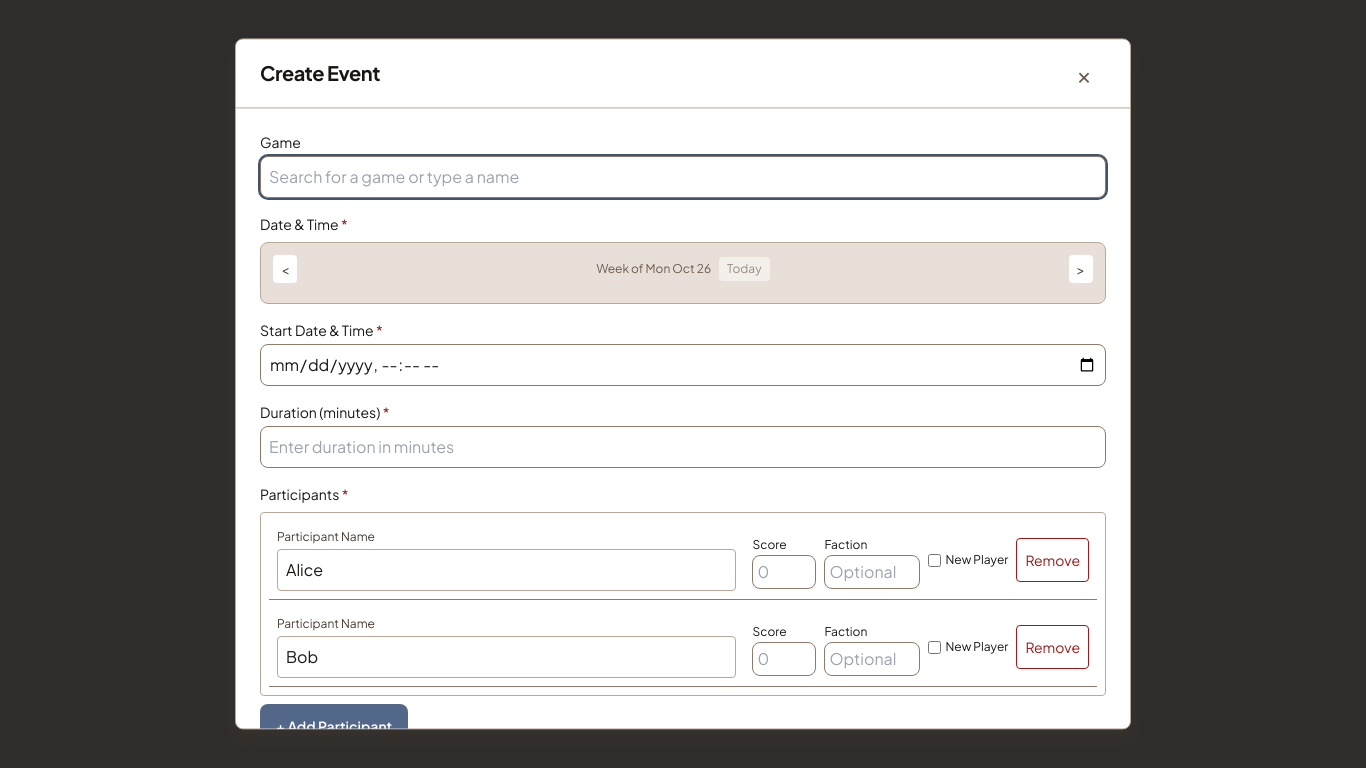
Scenario: stable row identity + undo (UAT rows 510, 557) › offers Undo, restores the row with its typed data, and puts focus on the control
Expected: the text "Alice" is shown, [277,549,736,591]
Click the button "+ Add Participant". click: {"x": 334, "y": 726}
box: [260,704,408,748]
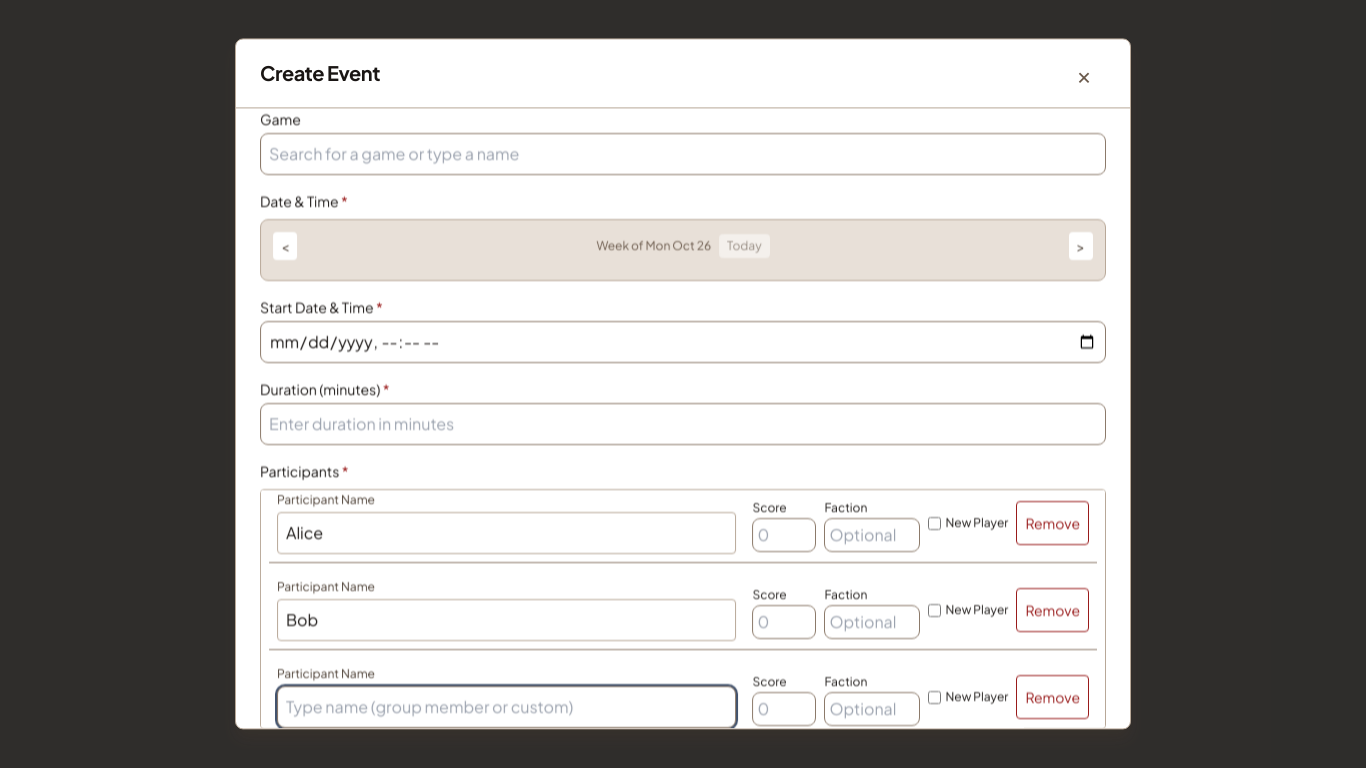
Type "Gina" into the field labelled "Participant Name". click: {"x": 507, "y": 707}
box: [277,686,736,728]
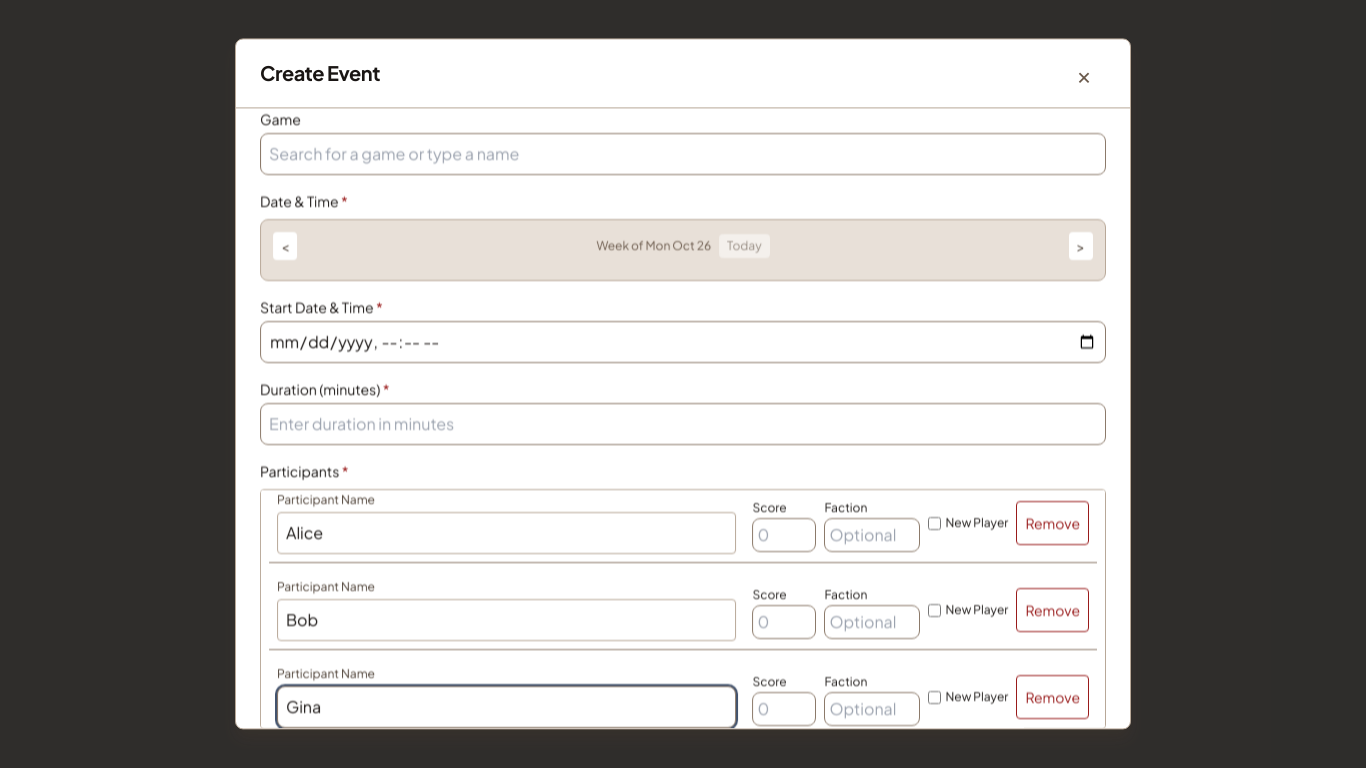
Type "11" into the 3rd number field labelled "Score". click: {"x": 784, "y": 709}
box: [752,692,816,726]
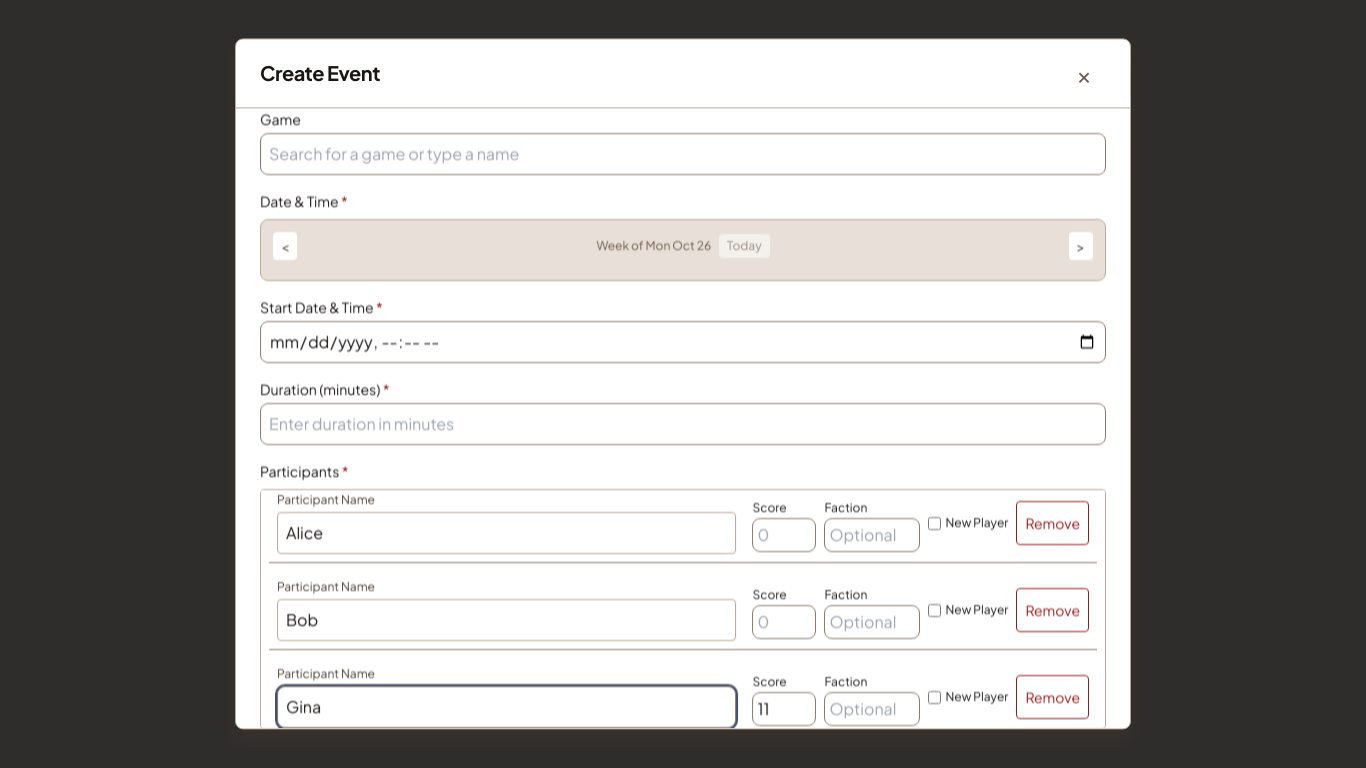
Type "Reds" into the 3rd field labelled "Faction". click: {"x": 872, "y": 709}
box: [824,692,920,726]
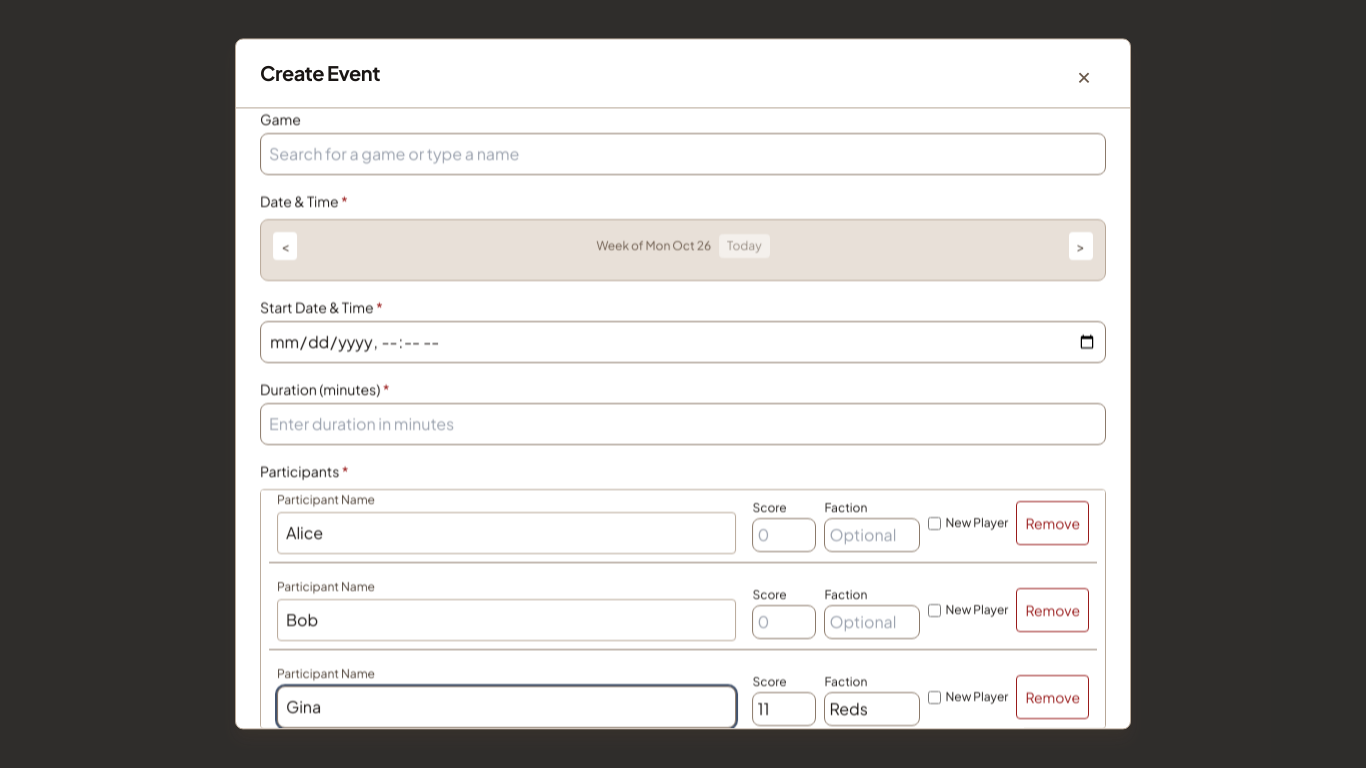
Click the 3rd button titled "Remove participant". click: {"x": 1053, "y": 697}
box: [1016,675,1089,719]
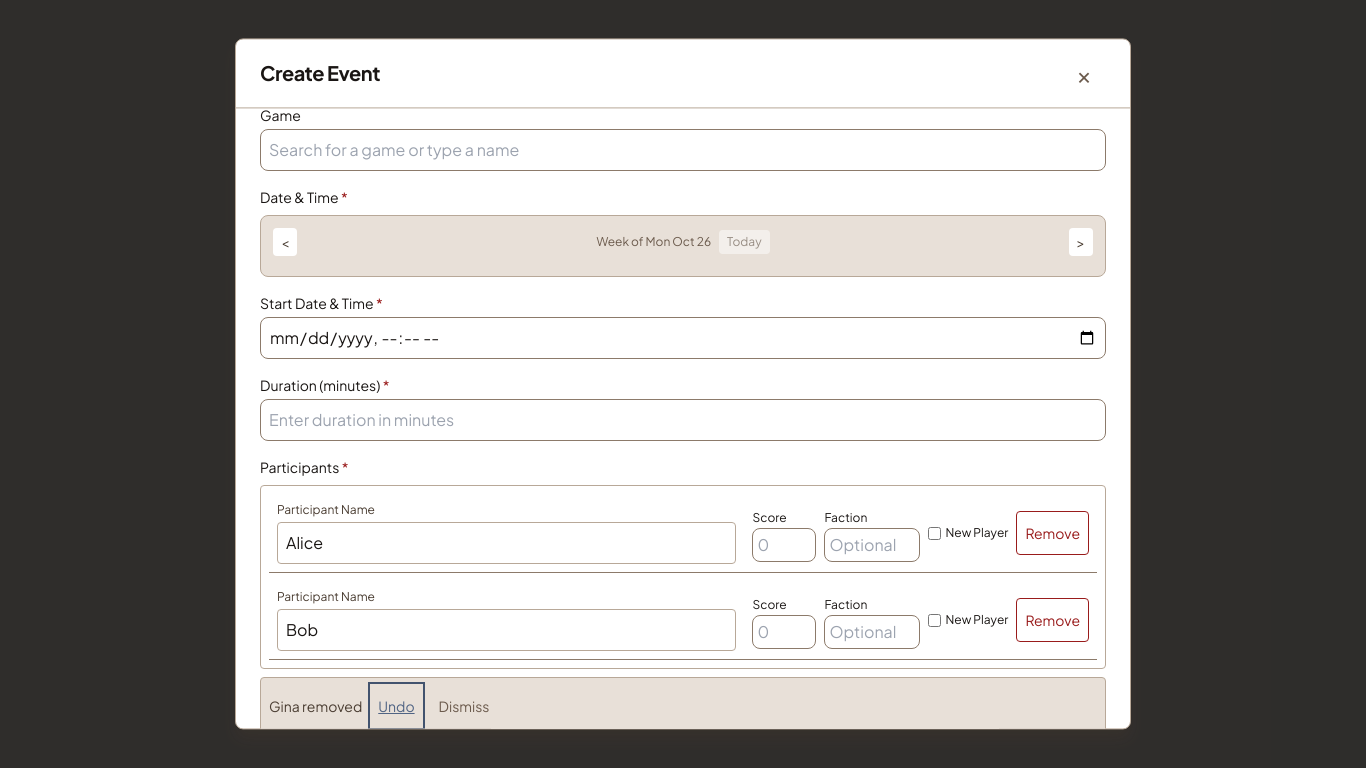
Result: the text "Gina removed" is shown at [269,696,362,716]
Click the button "Undo". click: {"x": 396, "y": 706}
box: [370,684,423,728]
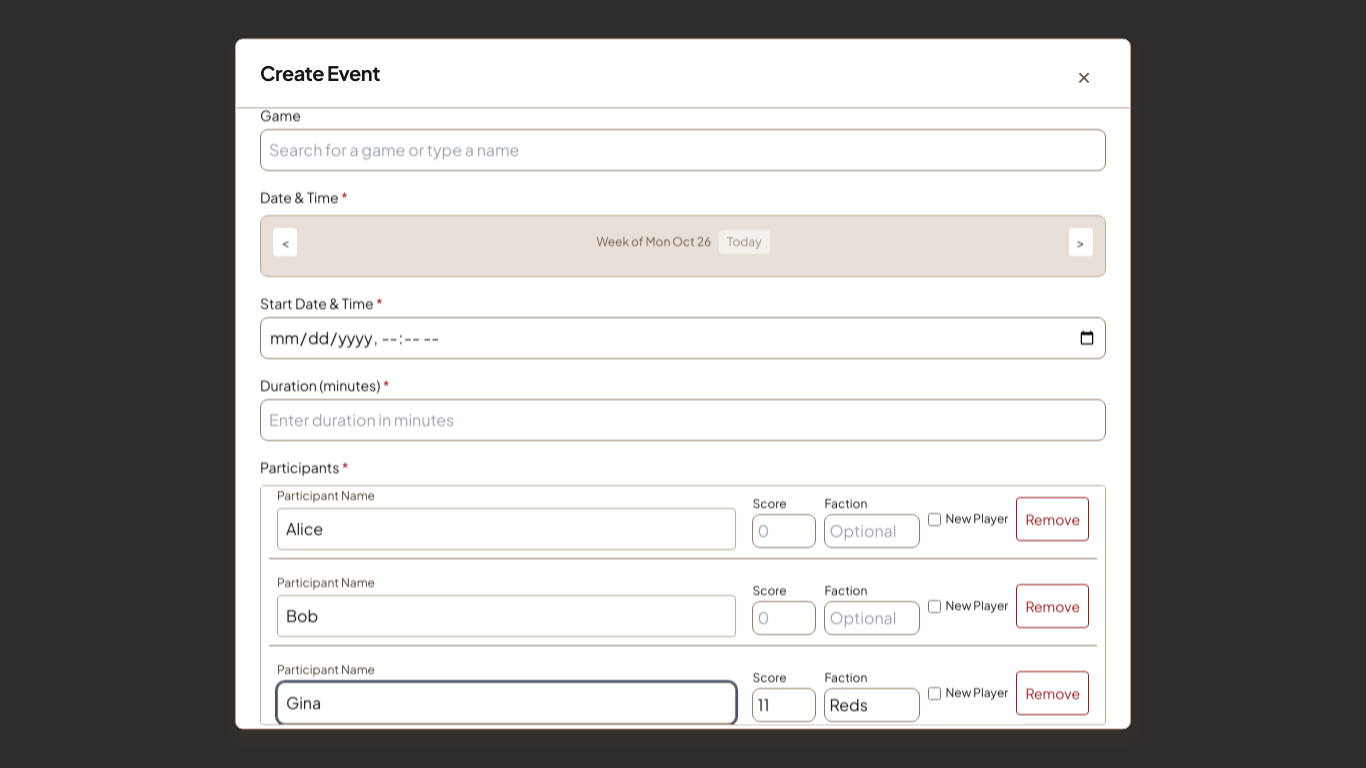
Result: the 3rd number field labelled "Score" holds "11" at [752,688,816,722]
Result: the 3rd field labelled "Faction" holds "Reds" at [824,688,920,722]
Result: the button "Undo" is gone
